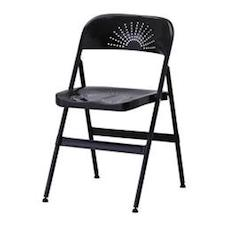chair: (7, 5, 206, 216)
